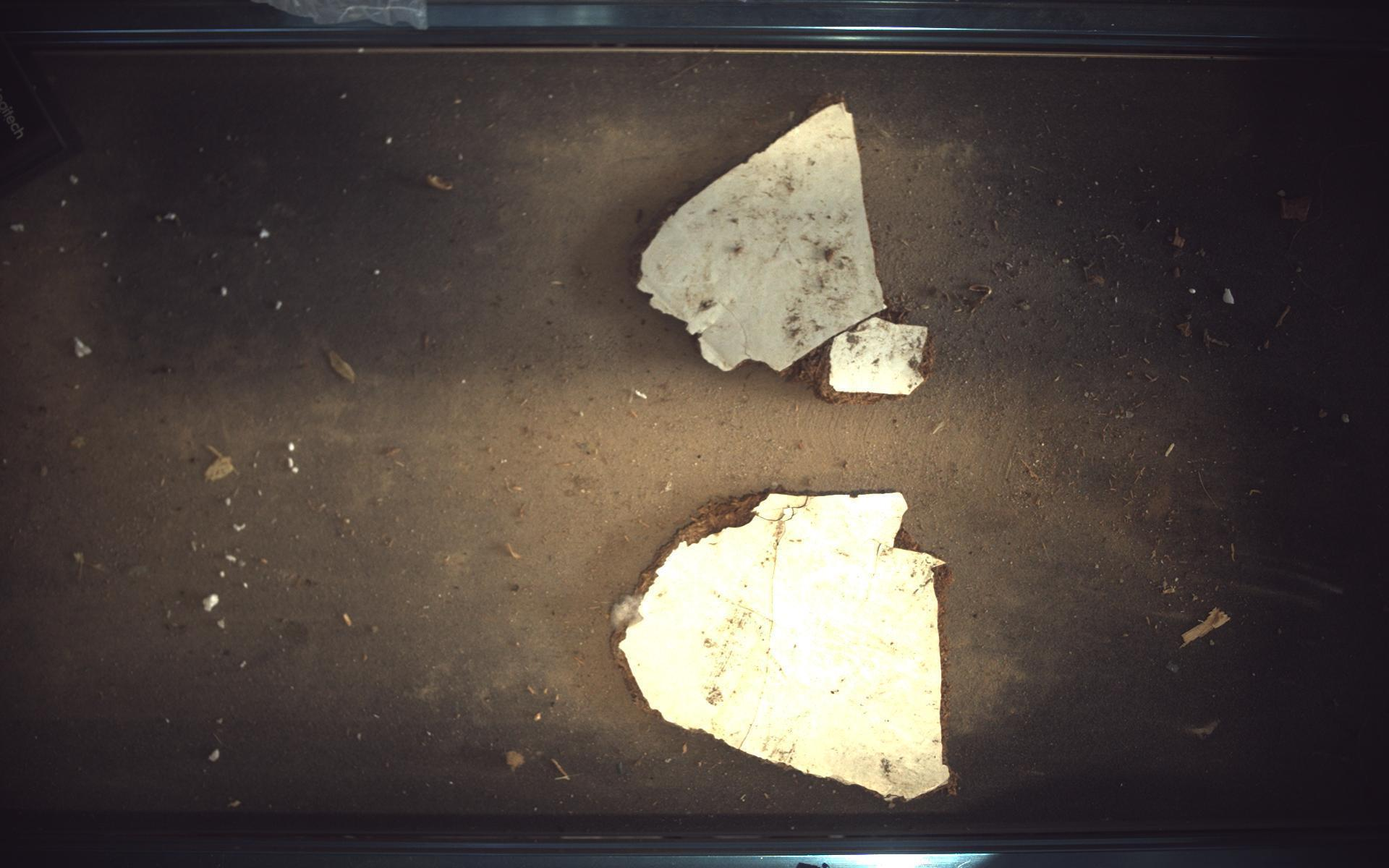wood: (613, 493, 952, 801), (640, 99, 887, 371), (790, 311, 934, 402)
